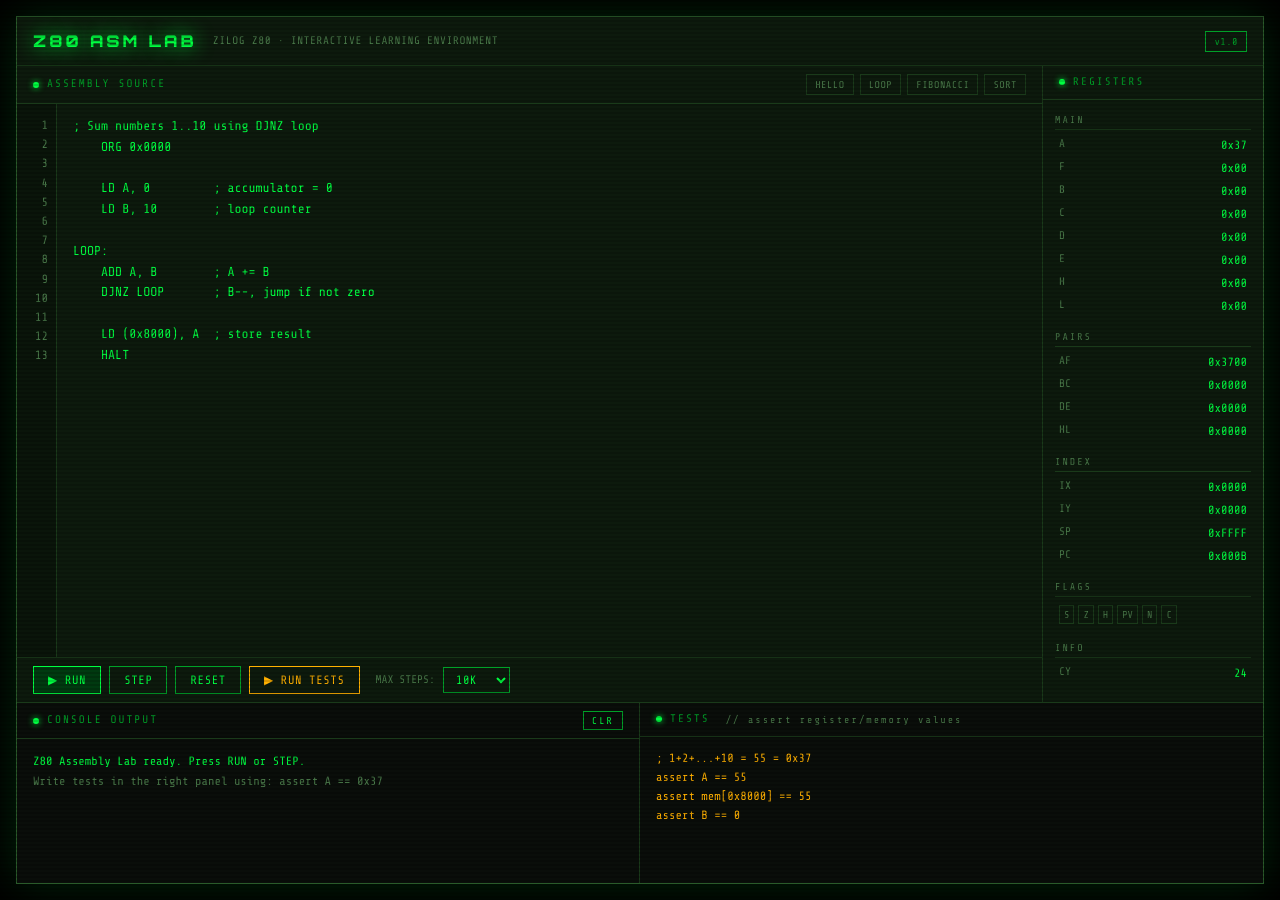
Test: App - STEP button › clicking STEP shows step output in console
Click the button "STEP" at (138, 680), box [109,666,168,694]
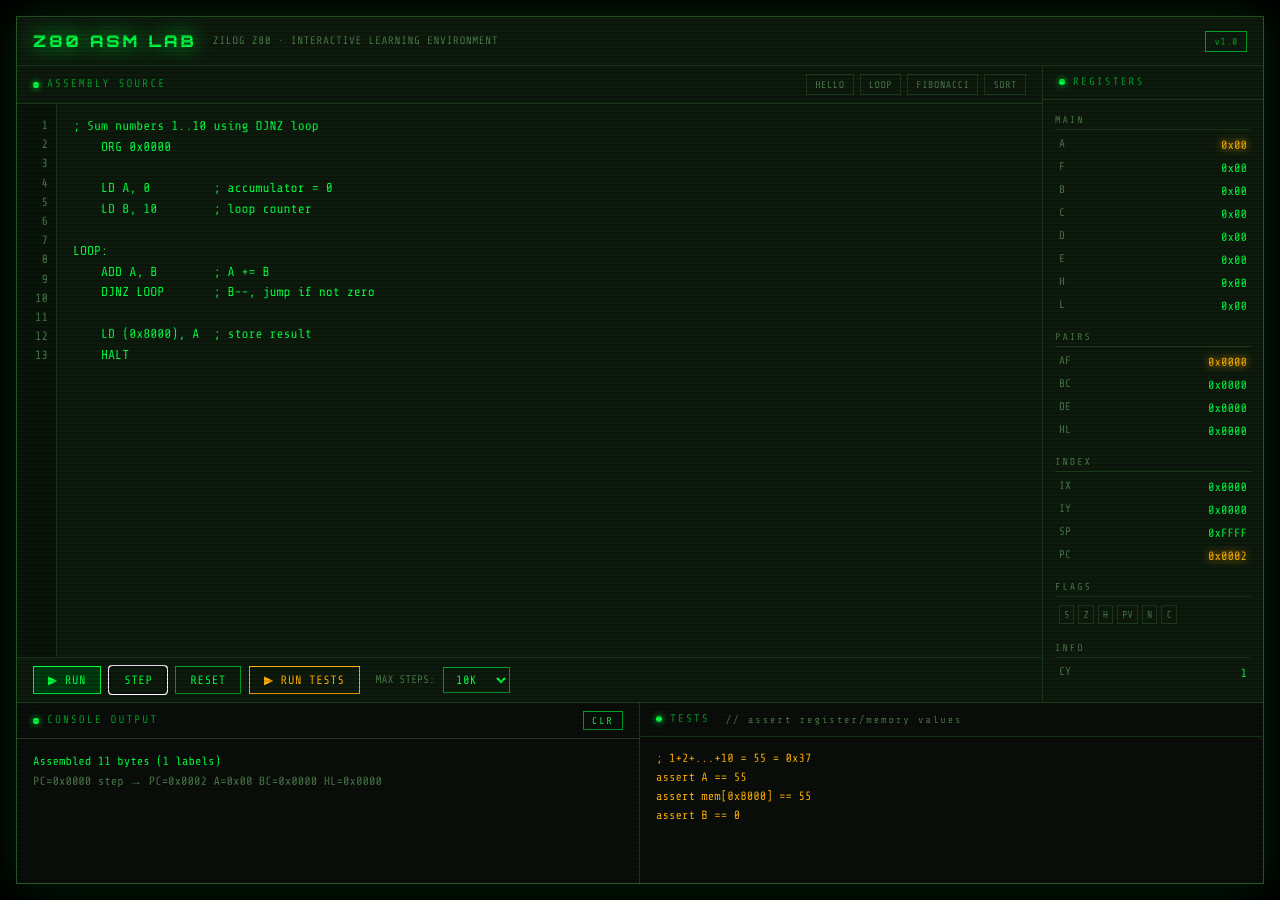
Result: the text "PC=0x0000 step → PC=0x0002 A=0x00 BC=0x0000 HL=0x0000" is shown at [33,774,382,788]
